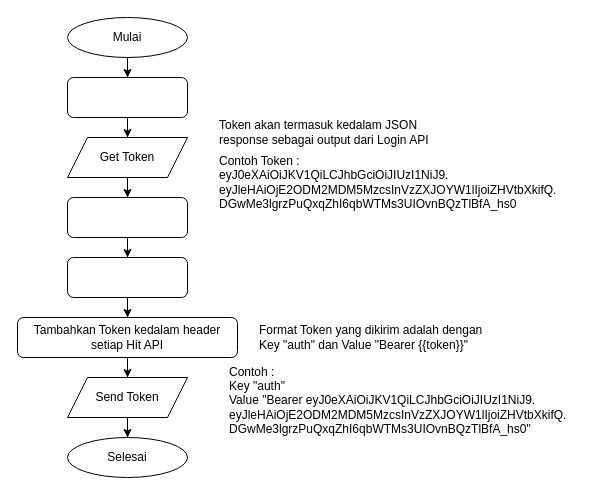
Some shapes in this 611 by 495 pixel diagram are drawn without their labels. Here are the shapes that lost their labels. From the top down, the centre of each, then its label:
At pixel 127 97: "Hit Login API".
At pixel 127 217: "Simpan Token kedalam variable".
At pixel 127 277: "Simpan Token kedalam lokal DB".
